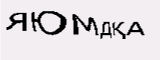Б: (113, 17, 129, 38)
Ж: (49, 7, 81, 29)
О: (82, 8, 101, 32)
Ф: (100, 13, 115, 37)
Х: (28, 6, 51, 31)
